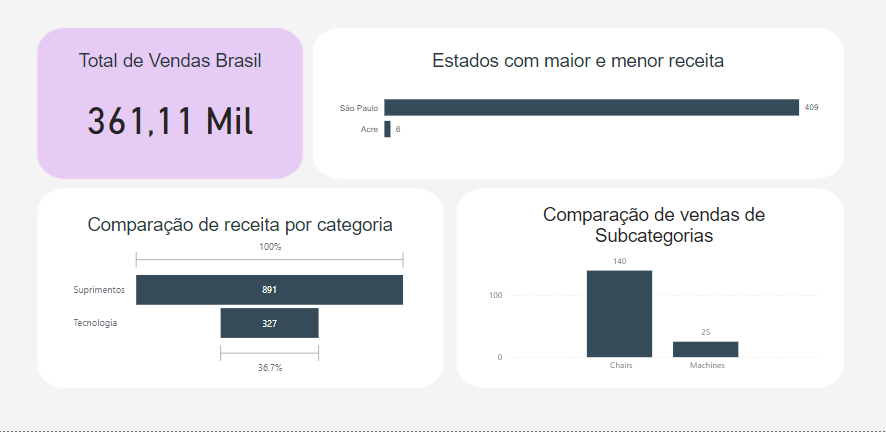

The page's visual inventory and layout, read from the dashboard file:
{"tool":"powerbi","page":{"name":"Página 1","canvas":[1280,720],"ordinal":0},"visuals":[{"type":"clusteredBarChart","title":"Estados com maior e menor receita","fields":{"Category":["Vendas.Regiao"],"Y":["CountNonNull(Vendas.ID_Pedido)"]},"box":[482.4,171.4,705.6,159.8],"z":0},{"type":"columnChart","title":"Comparação de vendas de Subcategorias","fields":{"Category":["Vendas.SubCategoria"],"Y":["CountNonNull(Vendas.ID_Pedido)"]},"box":[701.3,393.1,486.7,250.6],"z":1000},{"type":"funnel","title":"Comparação de receita por categoria","fields":{"Category":["Vendas.Categoria"],"Y":["CountNonNull(Vendas.ID_Pedido)"]},"box":[103.7,407.5,489.6,236.2],"z":2000},{"type":"card","title":"Total de Vendas Brasil","fields":{"Values":["Sum(Vendas.Total_Vendas)"]},"box":[92.2,171.4,311,159.8],"z":3000}]}

Visuals, with their boxes on the page's 1280x720 design canvas (x1, y1, x2, y2). These are canvas units, not pixel positions in the 886x432 screenshot, which may show the page scaled, cropped or inside an application window:
"Estados com maior e menor receita" clusteredBarChart: pyautogui.locateOnScreen(482, 171, 1188, 331)
"Comparação de vendas de Subcategorias" columnChart: pyautogui.locateOnScreen(701, 393, 1188, 644)
"Comparação de receita por categoria" funnel: pyautogui.locateOnScreen(104, 408, 593, 644)
"Total de Vendas Brasil" card: pyautogui.locateOnScreen(92, 171, 403, 331)
